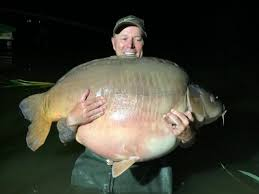carp: (20, 55, 227, 180)
